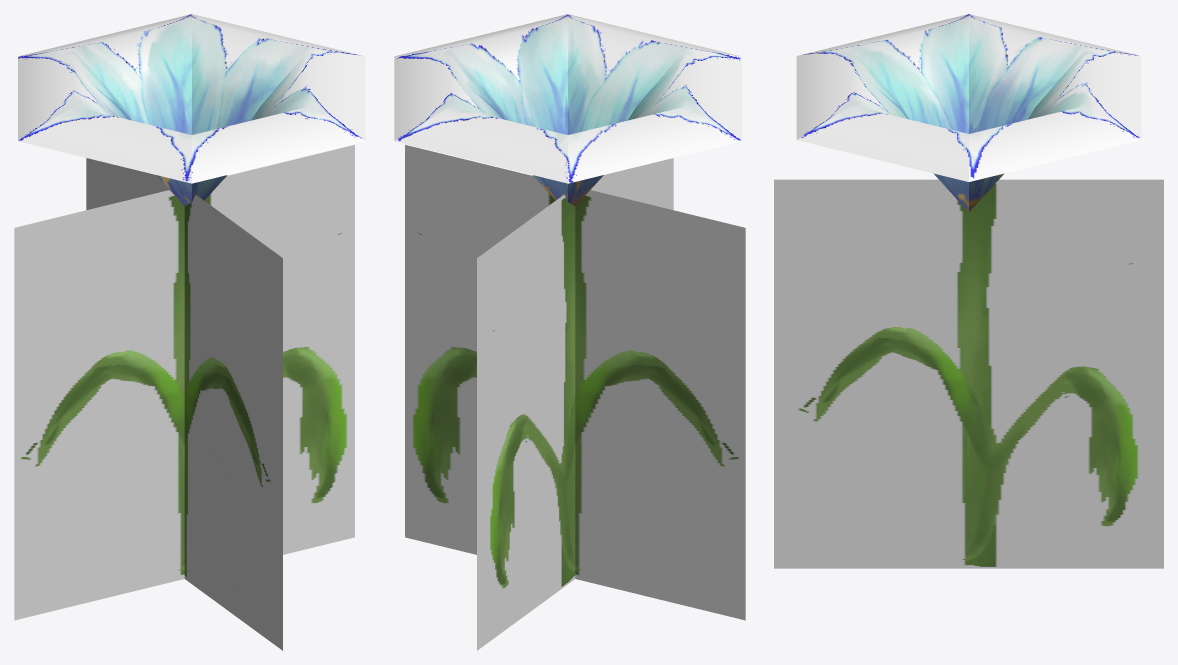
The model's file is lily.fbx.
3 views of the same model, side by side, from view 1: azimuth 30°, elevation 25°; view 2: azimuth 150°, elevation 25°; view 3: azimuth 270°, elevation 25° (orthographic).
Visible parts, largest first — view 1: pCone3; view 2: pCone3; view 3: pCone3.
Boxes of the visible parts, x1,y1,x2,y2 form: pCone3: [14, 14, 365, 650]; pCone3: [394, 14, 745, 650]; pCone3: [774, 14, 1163, 568].
Bounding box in the file's own units: 136 × 185 × 132.
